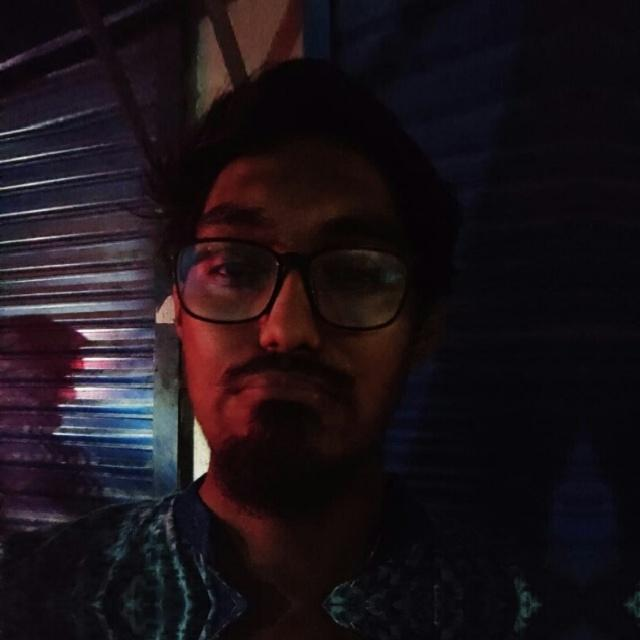Sad: (163, 111, 450, 516)
